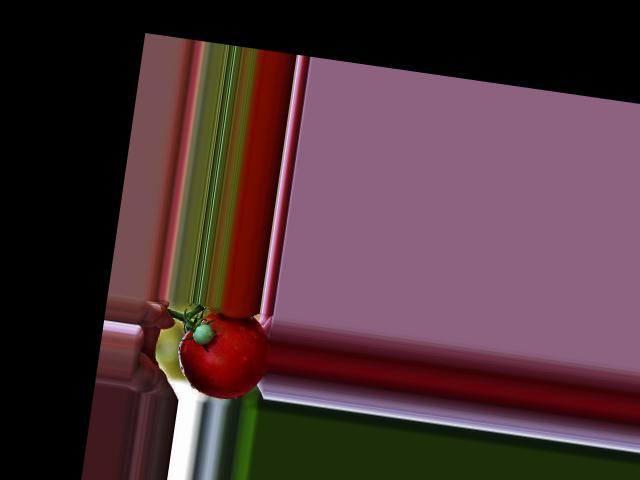tomato: (172, 307, 274, 403)
